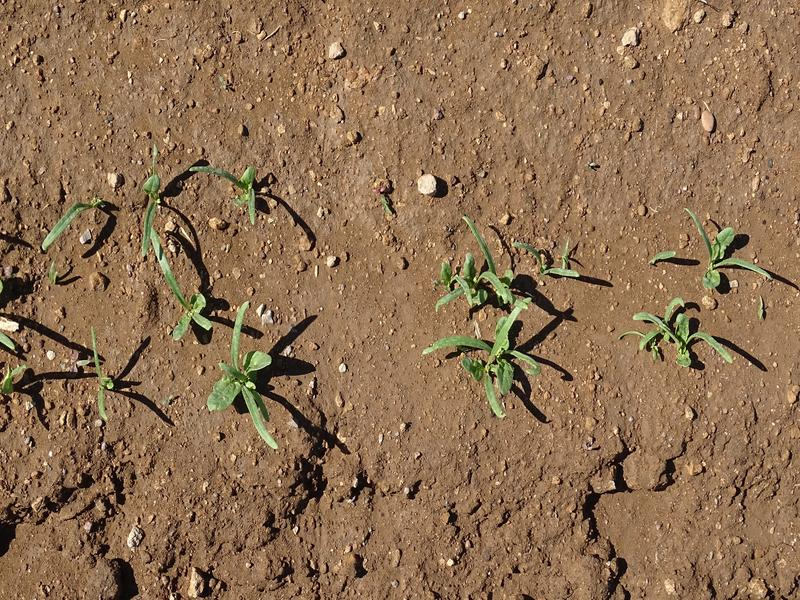Espinaca: (133, 156, 295, 455), (448, 206, 586, 427), (648, 220, 769, 372), (34, 193, 104, 254), (86, 330, 111, 422)
